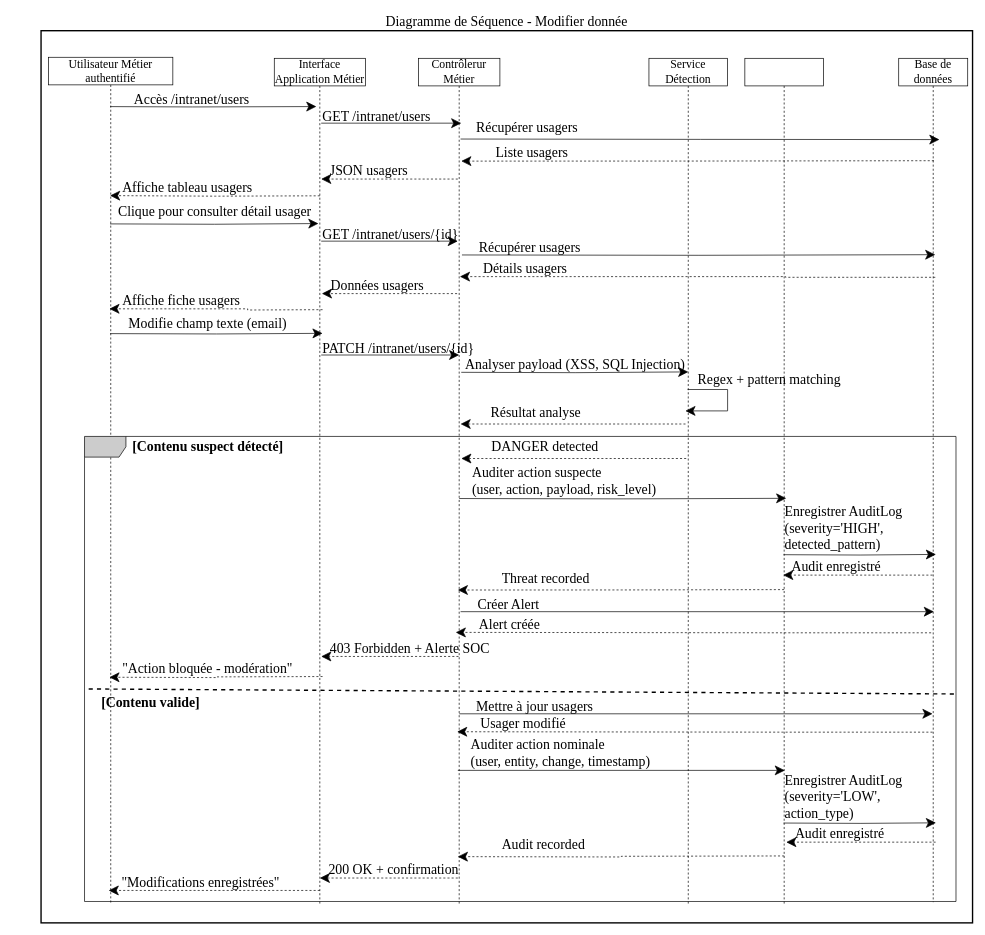
Some shapes in this 985 by 935 pixel diagram are drawn without their labels. Here are the shapes that lost their labels. From the top down, the box of each, then its label:
(744, 58, 824, 904): Service Audit
(84, 436, 956, 901): alt
